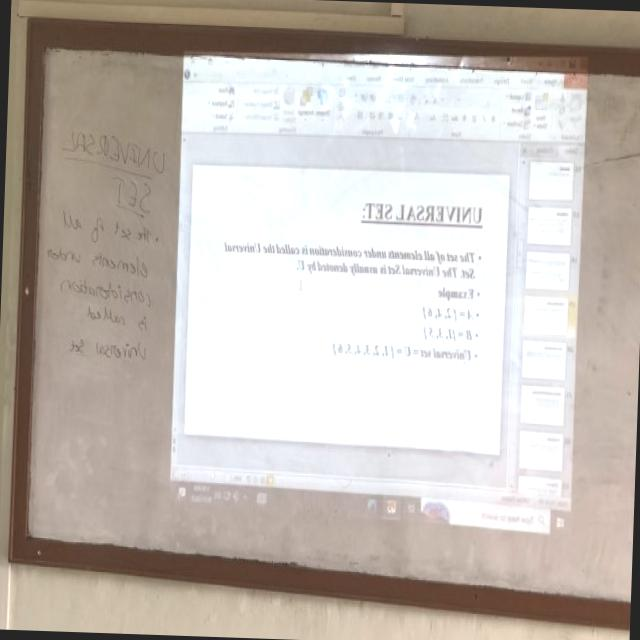Slide: (167, 51, 592, 540)
White-board: (19, 29, 640, 633)
